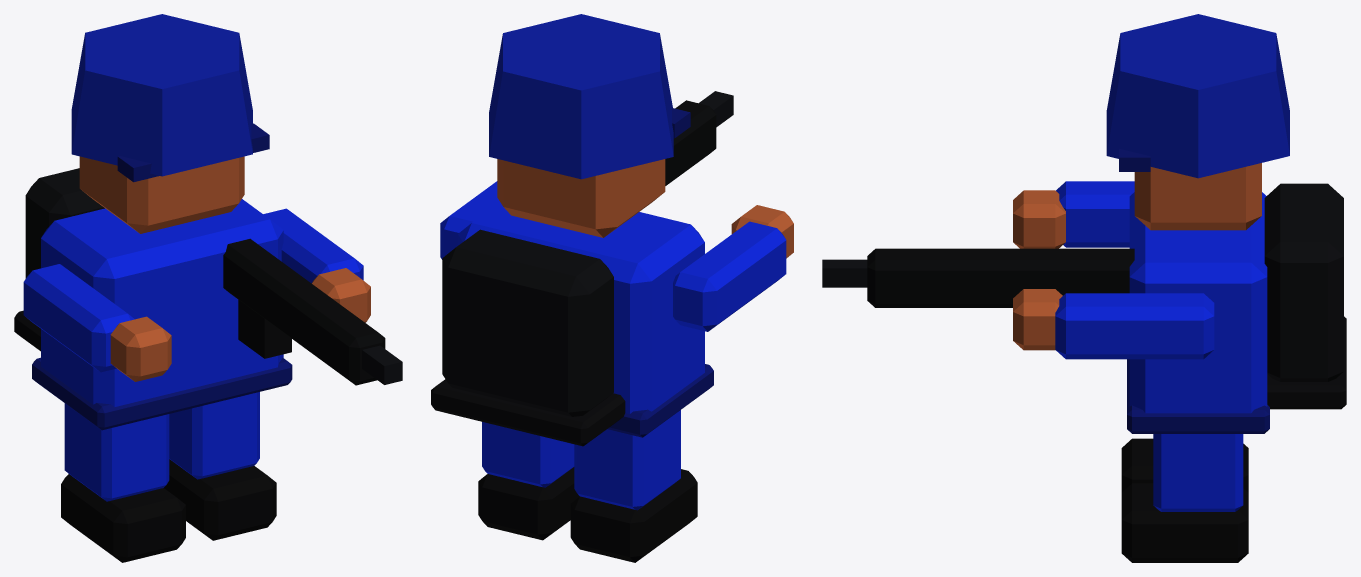
Rendered from soldier.glb.
The picture shows the model from 3 angles, left to right: view 1: azimuth 30°, elevation 25°; view 2: azimuth 150°, elevation 25°; view 3: azimuth 270°, elevation 25°; orthographic projection.
Parts seen in each view (by area): view 1: soldier; view 2: soldier; view 3: soldier.
Boxes of the visible parts, box(x1,y1,x2,y2) form: soldier: box(14, 14, 402, 562); soldier: box(431, 14, 793, 562); soldier: box(822, 14, 1346, 562).
Bounding box in the file's own units: 0.6 × 0.99 × 0.99.
